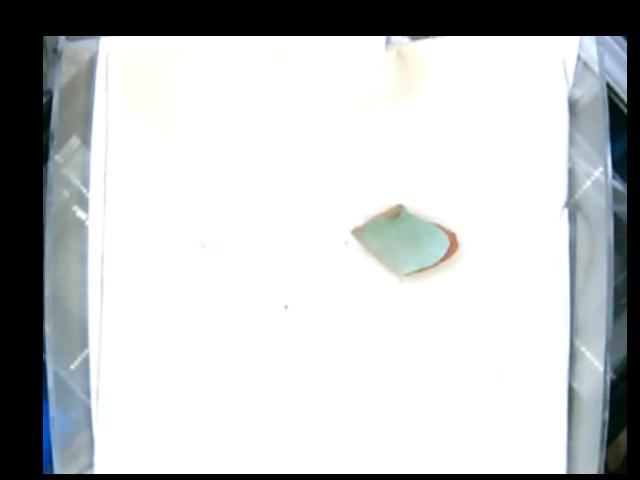China: (354, 202, 459, 274)
